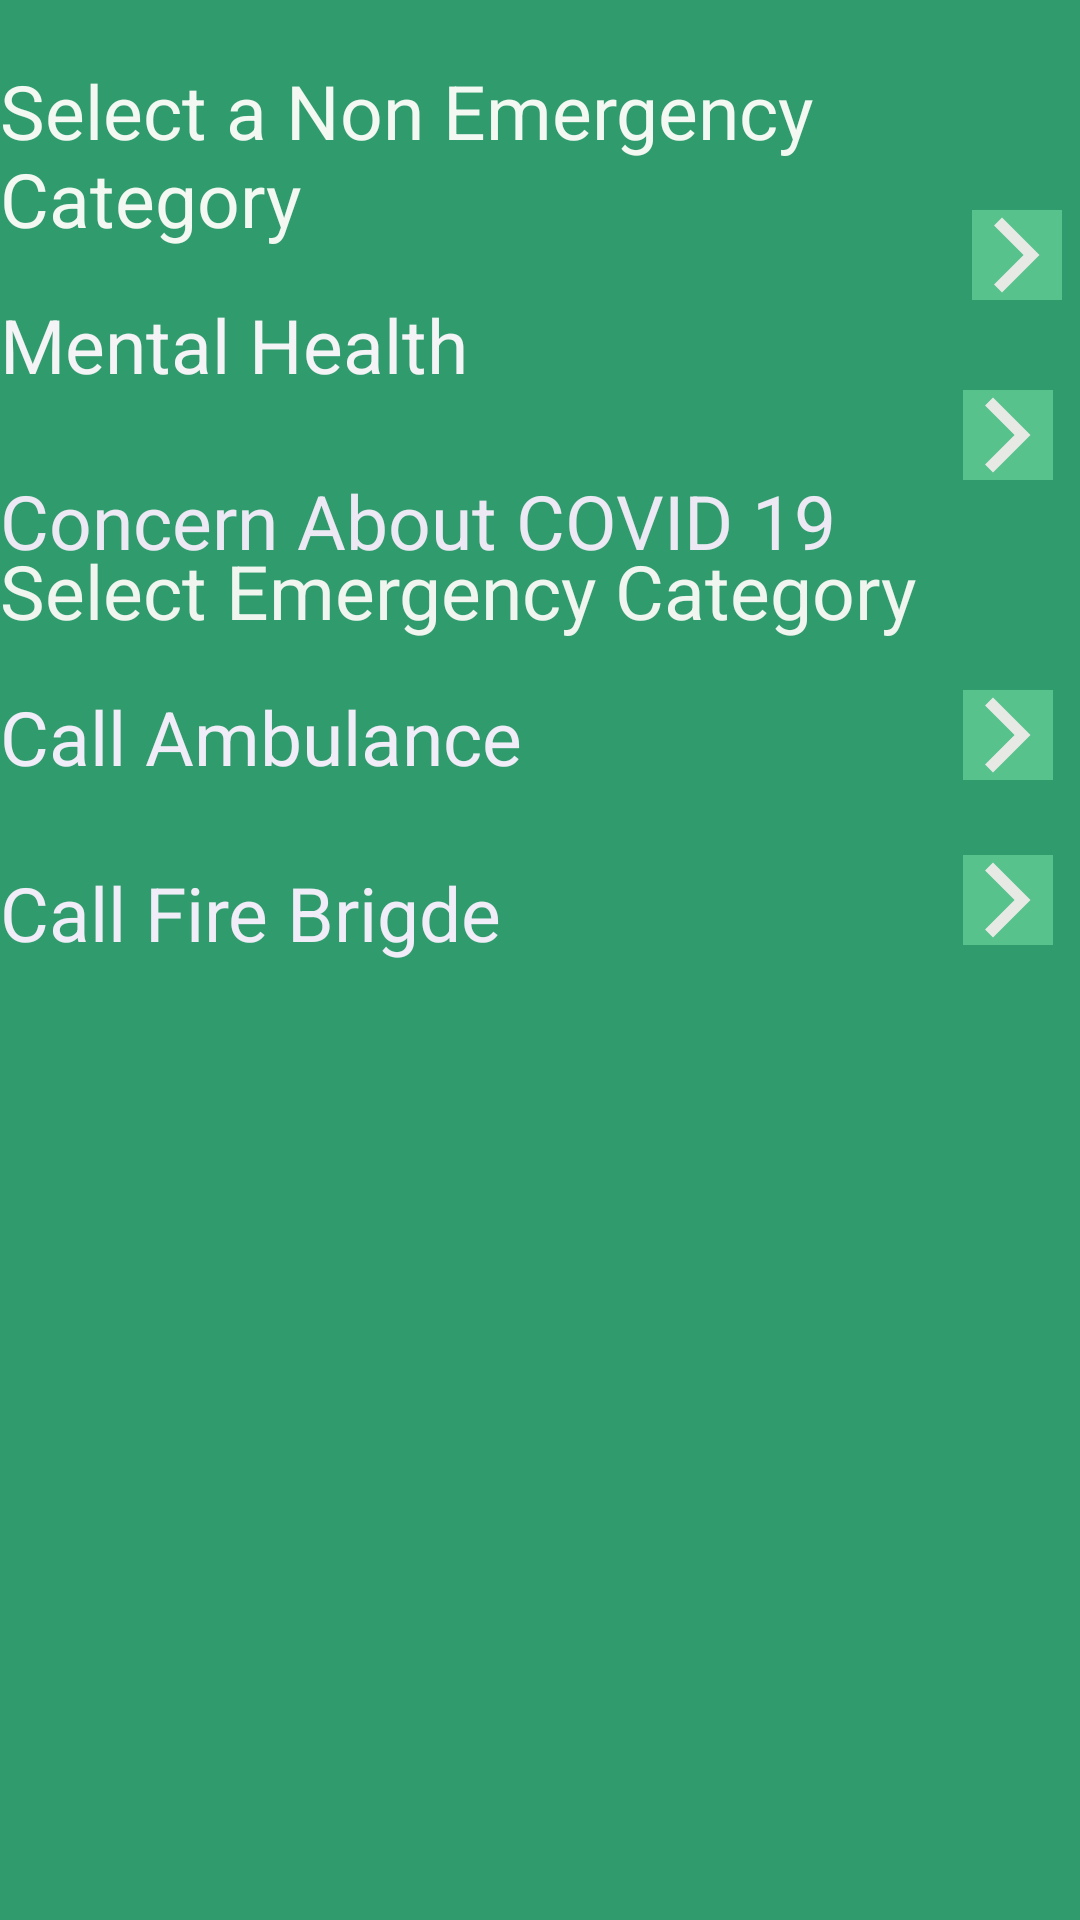

Named icons in this screenshot (1080×1920) and their bounding boxes, (left=x1, top=y1, right=x2, bottom=y2):
arrow forward: (left=972, top=210, right=1062, bottom=300), (left=963, top=390, right=1053, bottom=480), (left=963, top=690, right=1053, bottom=780), (left=963, top=855, right=1053, bottom=945)
